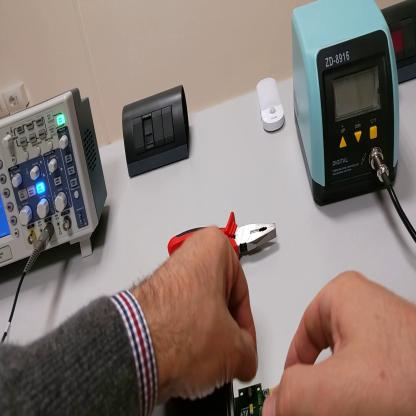hand: (265, 269, 416, 415), (144, 224, 258, 401)
low voltage board: (155, 383, 271, 415)
oscilloscope: (2, 87, 109, 272)
pliers: (169, 211, 278, 265)
socket: (383, 1, 416, 87)
welder station: (292, 3, 400, 207)
